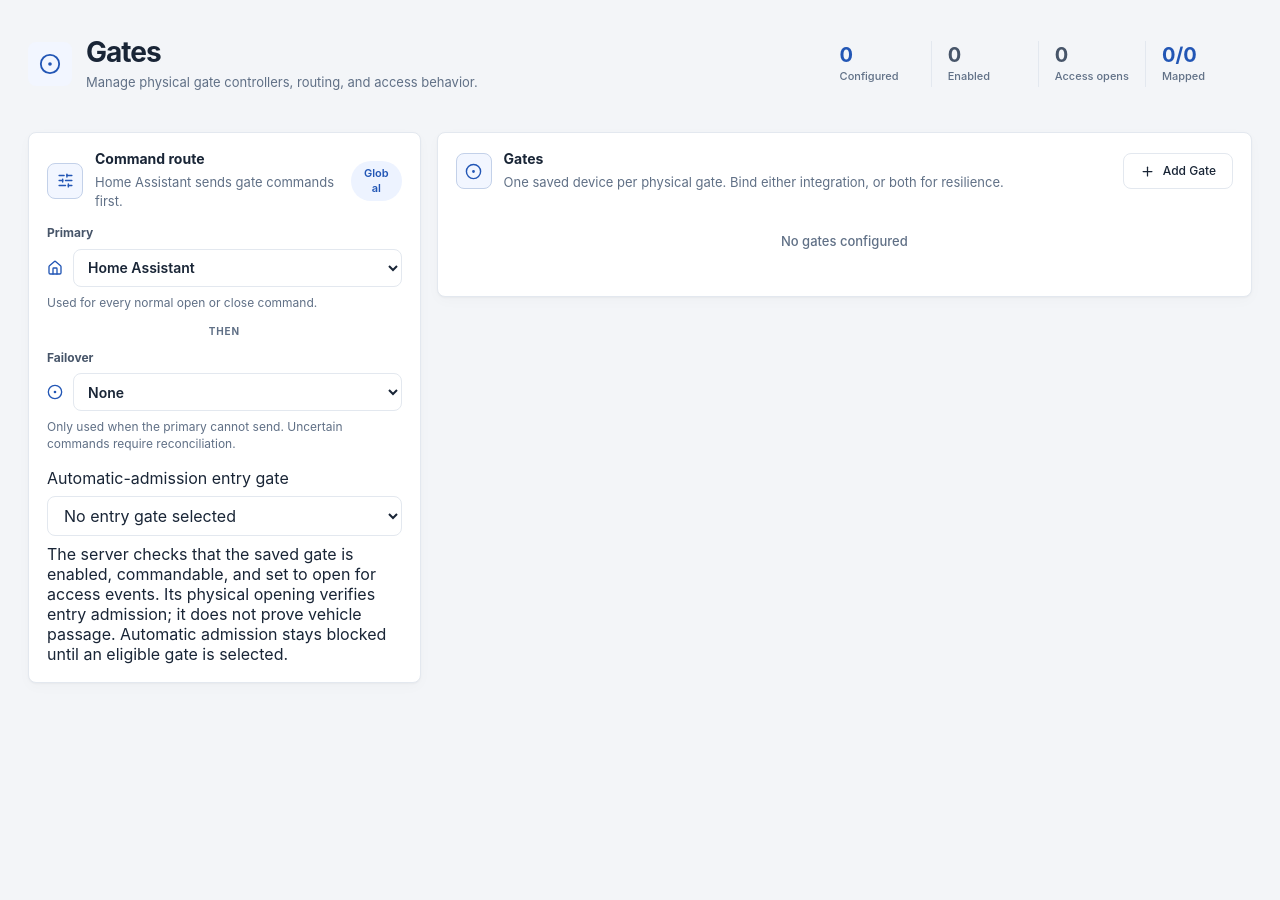
Test case: keeps an accepted device create distinct from a failed following read
Click the button "Add Gate": (1178, 171) [1123,153,1233,189]
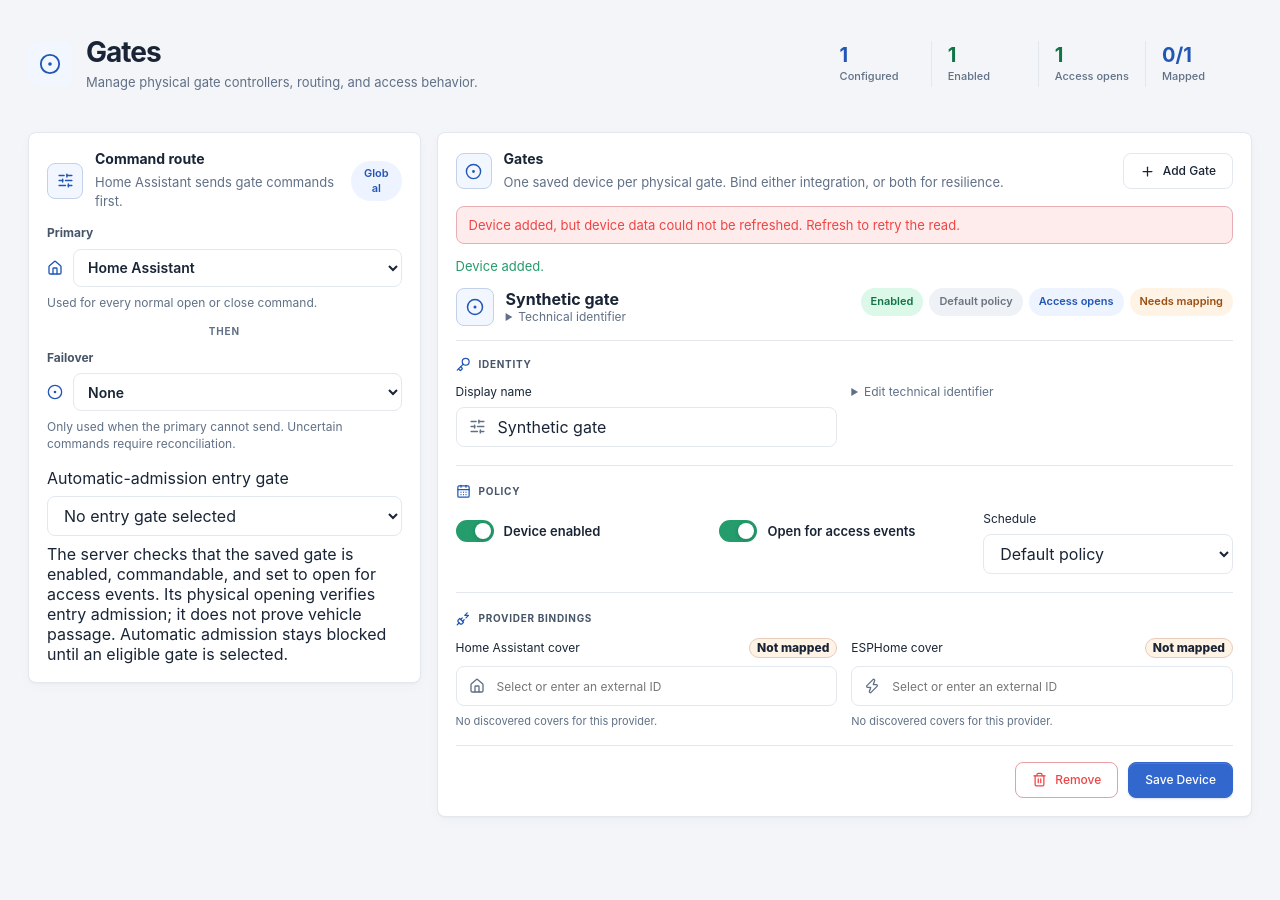
Result: the text "Device added." is shown at [456,258,544,274]
Result: the text "Device added, but device data could not be refreshed. Refresh to retry the read." is shown at [456,206,1233,244]
